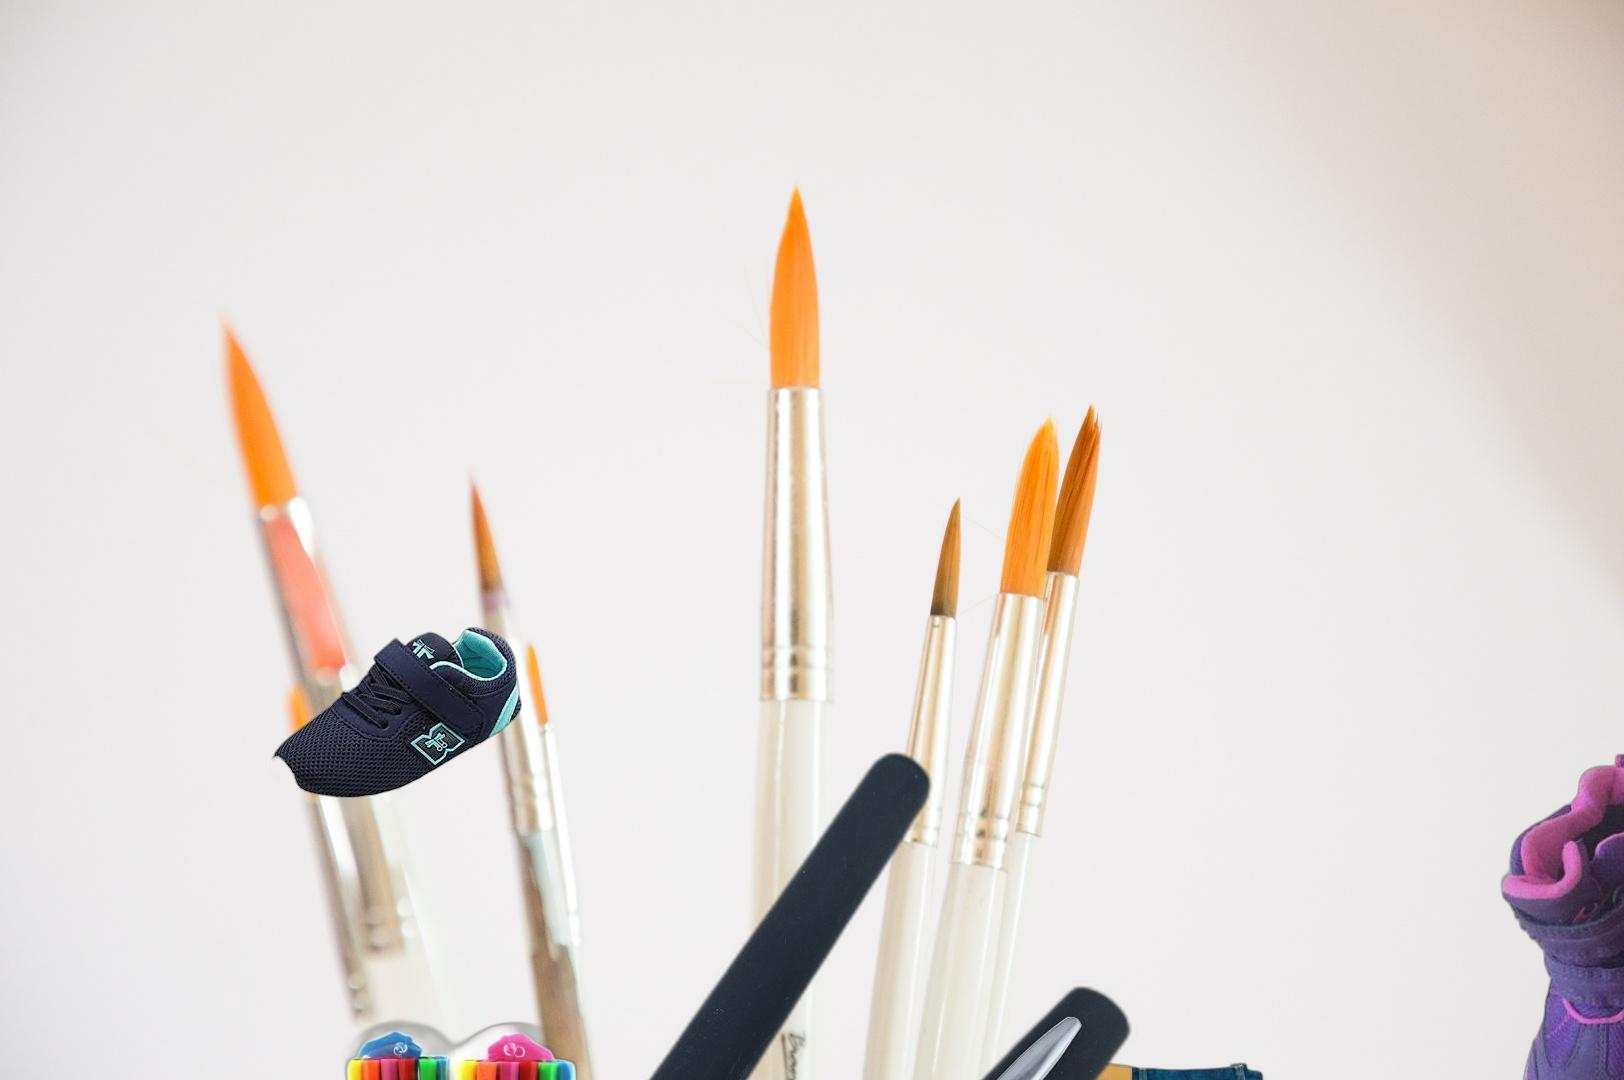clothes: (1069, 1053, 1469, 1080)
penholder: (367, 744, 1138, 1080), (340, 1017, 579, 1080)
shoes: (269, 626, 524, 800), (1499, 750, 1624, 1080)
